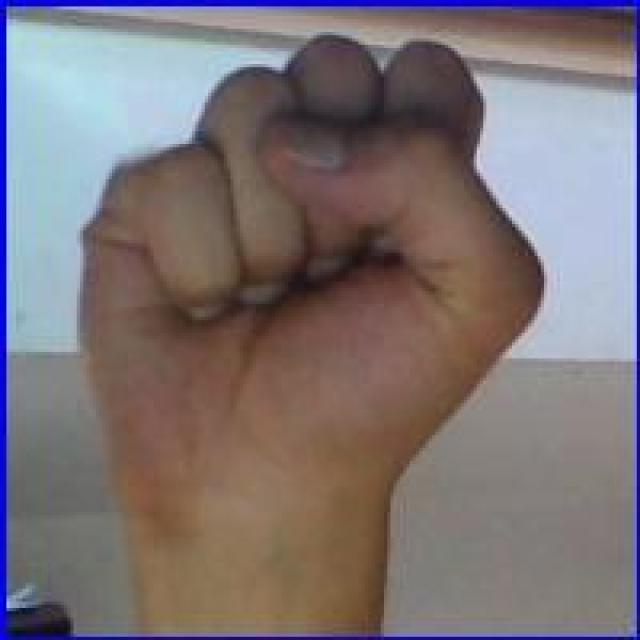S: (64, 30, 566, 498)
